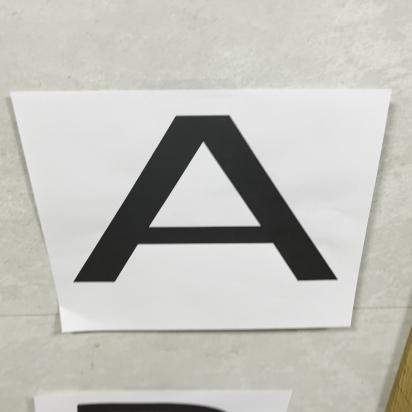seat: (60, 105, 356, 316)
